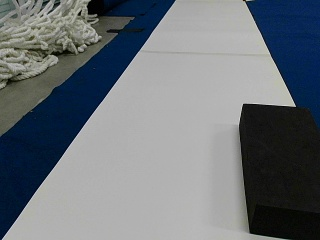block: (240, 102, 319, 237)
